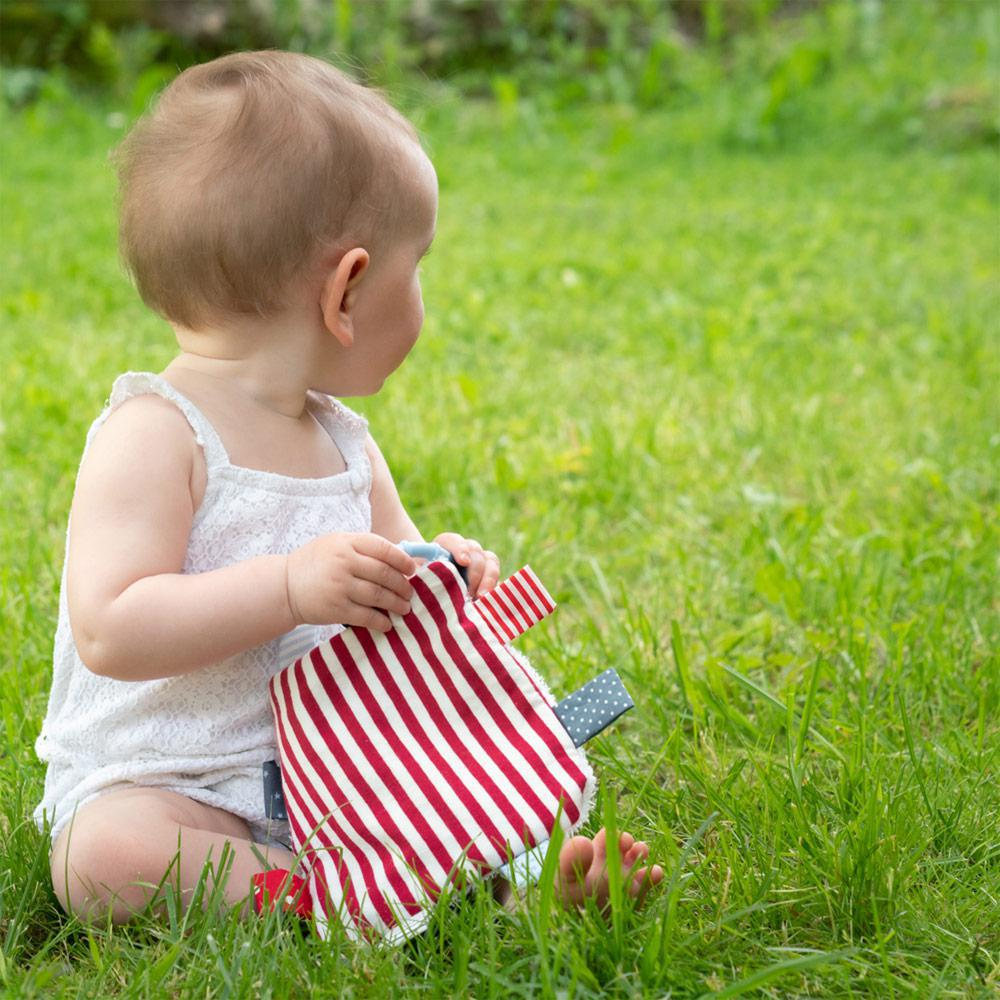child: (38, 34, 668, 944)
